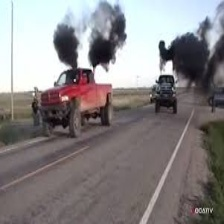smoke: (155, 22, 224, 88), (90, 7, 131, 73), (50, 23, 82, 69)
